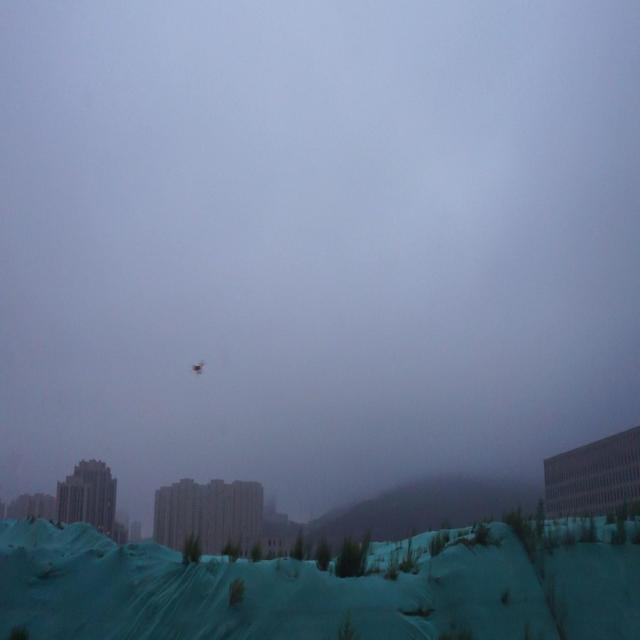drone: (189, 357, 207, 377)
